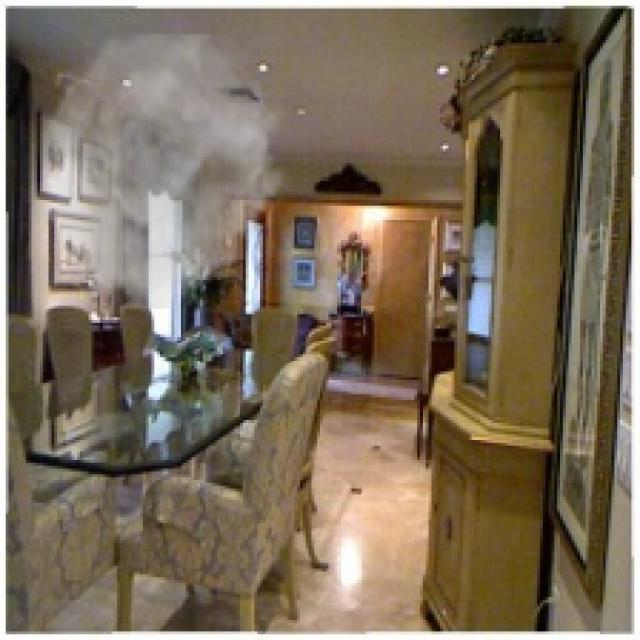Smoke: (26, 34, 294, 309)
